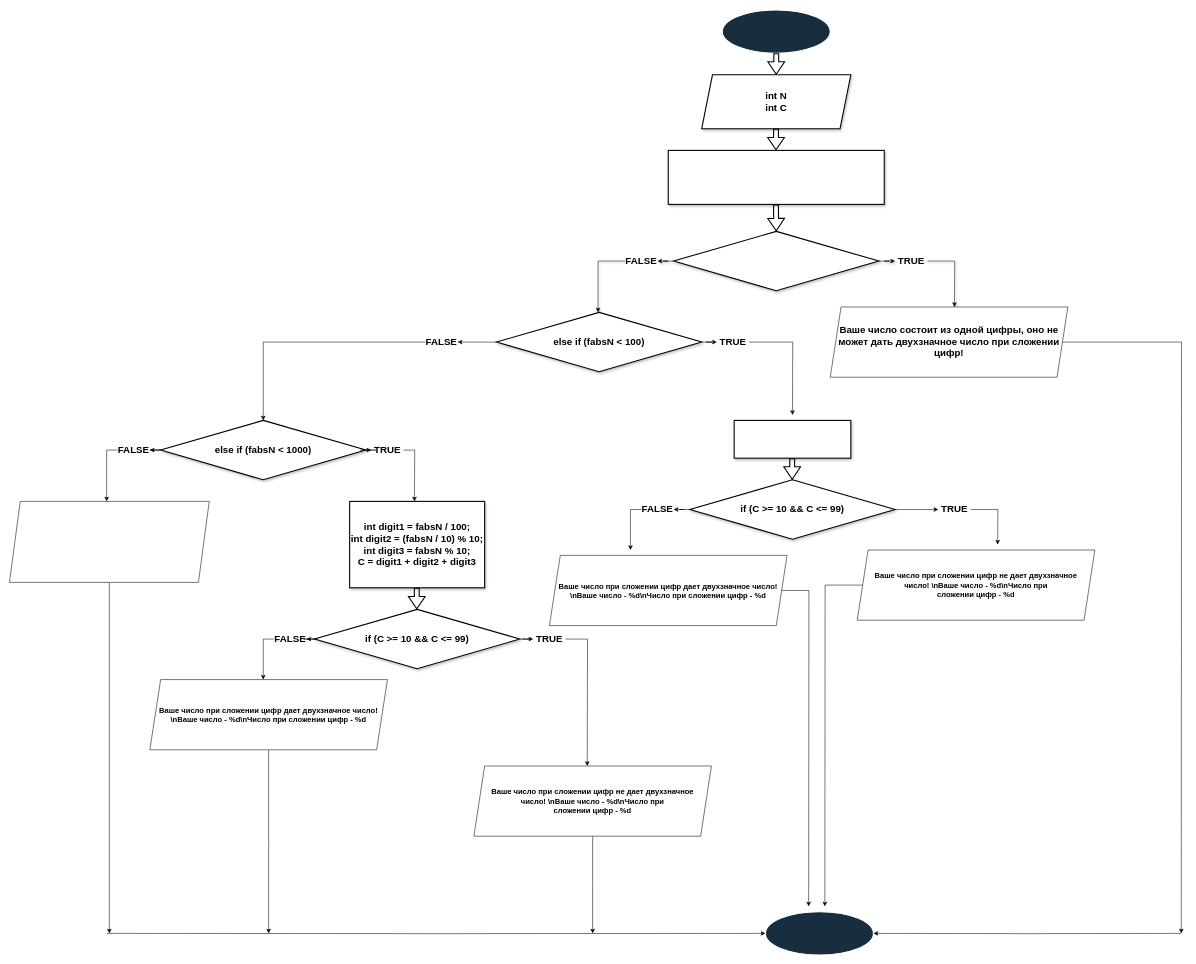
Image size: 1196x964. Some labels were removed from this diagram. The centre of each missing label's shape, as x and y in pixels:
"C = (fabsN / 10) + (fabsN % 10)" goes at pixel 792 439.
"if (fabsN < 10)" goes at pixel 776 261.
"int fabsN = fabs(N)" goes at pixel 776 177.
"Конец" goes at pixel 819 933.
"Начало" goes at pixel 776 31.
"Число должно быть меньше 1000 по модулю!" goes at pixel 109 541.
